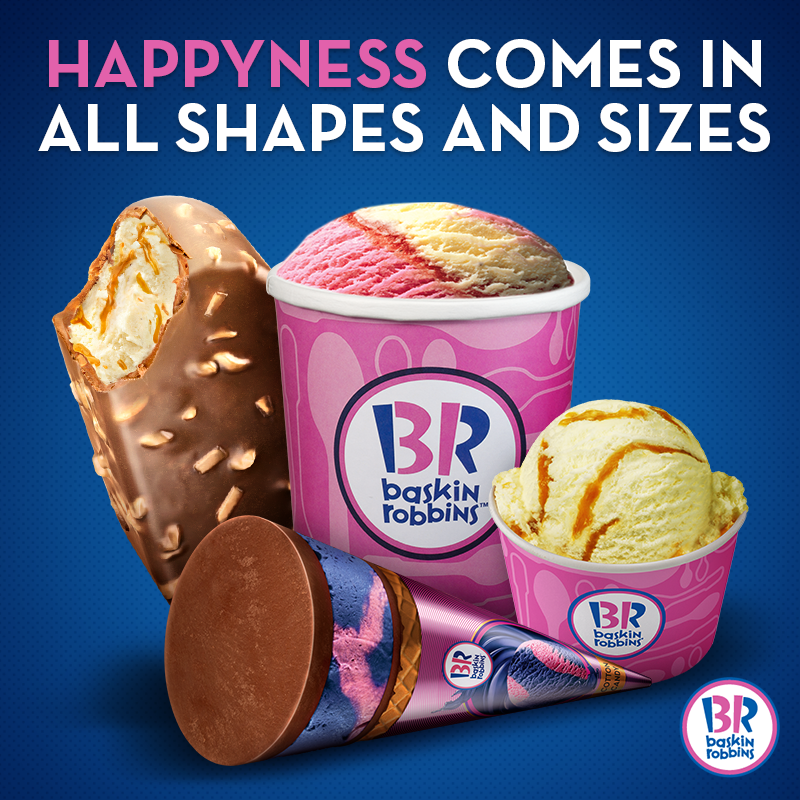Headline: (2, 0, 800, 168)
Product: (3, 174, 798, 797)
logo: (562, 590, 782, 786), (330, 380, 521, 583)
